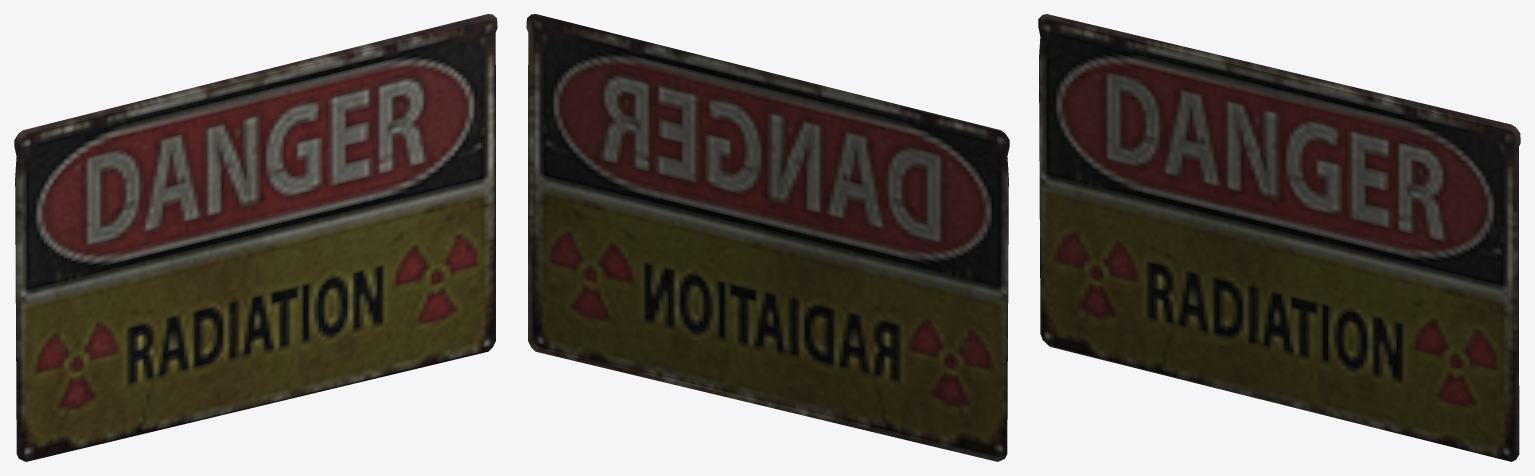
Rendered from sign_2.obj.
The picture shows the model from 3 angles, left to right: view 1: azimuth 30°, elevation 25°; view 2: azimuth 150°, elevation 25°; view 3: azimuth 330°, elevation 25°; orthographic projection.
Parts seen in each view (by area): view 1: sign_2; view 2: sign_2; view 3: sign_2.
Boxes of the visible parts, <box> form: sign_2: <box>14,14,497,461</box>; sign_2: <box>526,14,1009,461</box>; sign_2: <box>1038,14,1520,461</box>.
Size of the model in its own units: 0.4399 by 0.2939 by 0.003.
